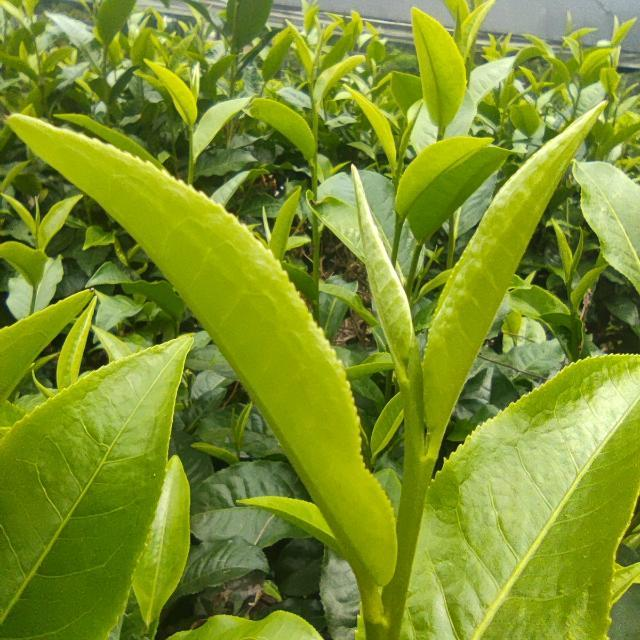Stem: (406, 452, 431, 478)
